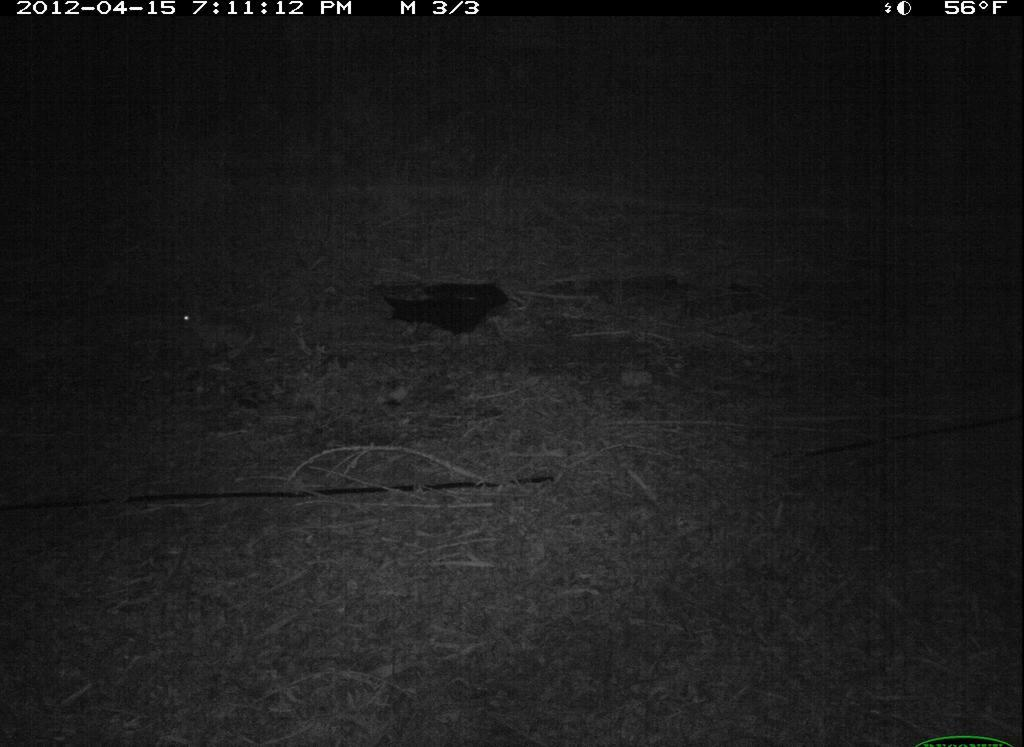rabbit: (155, 268, 294, 387)
